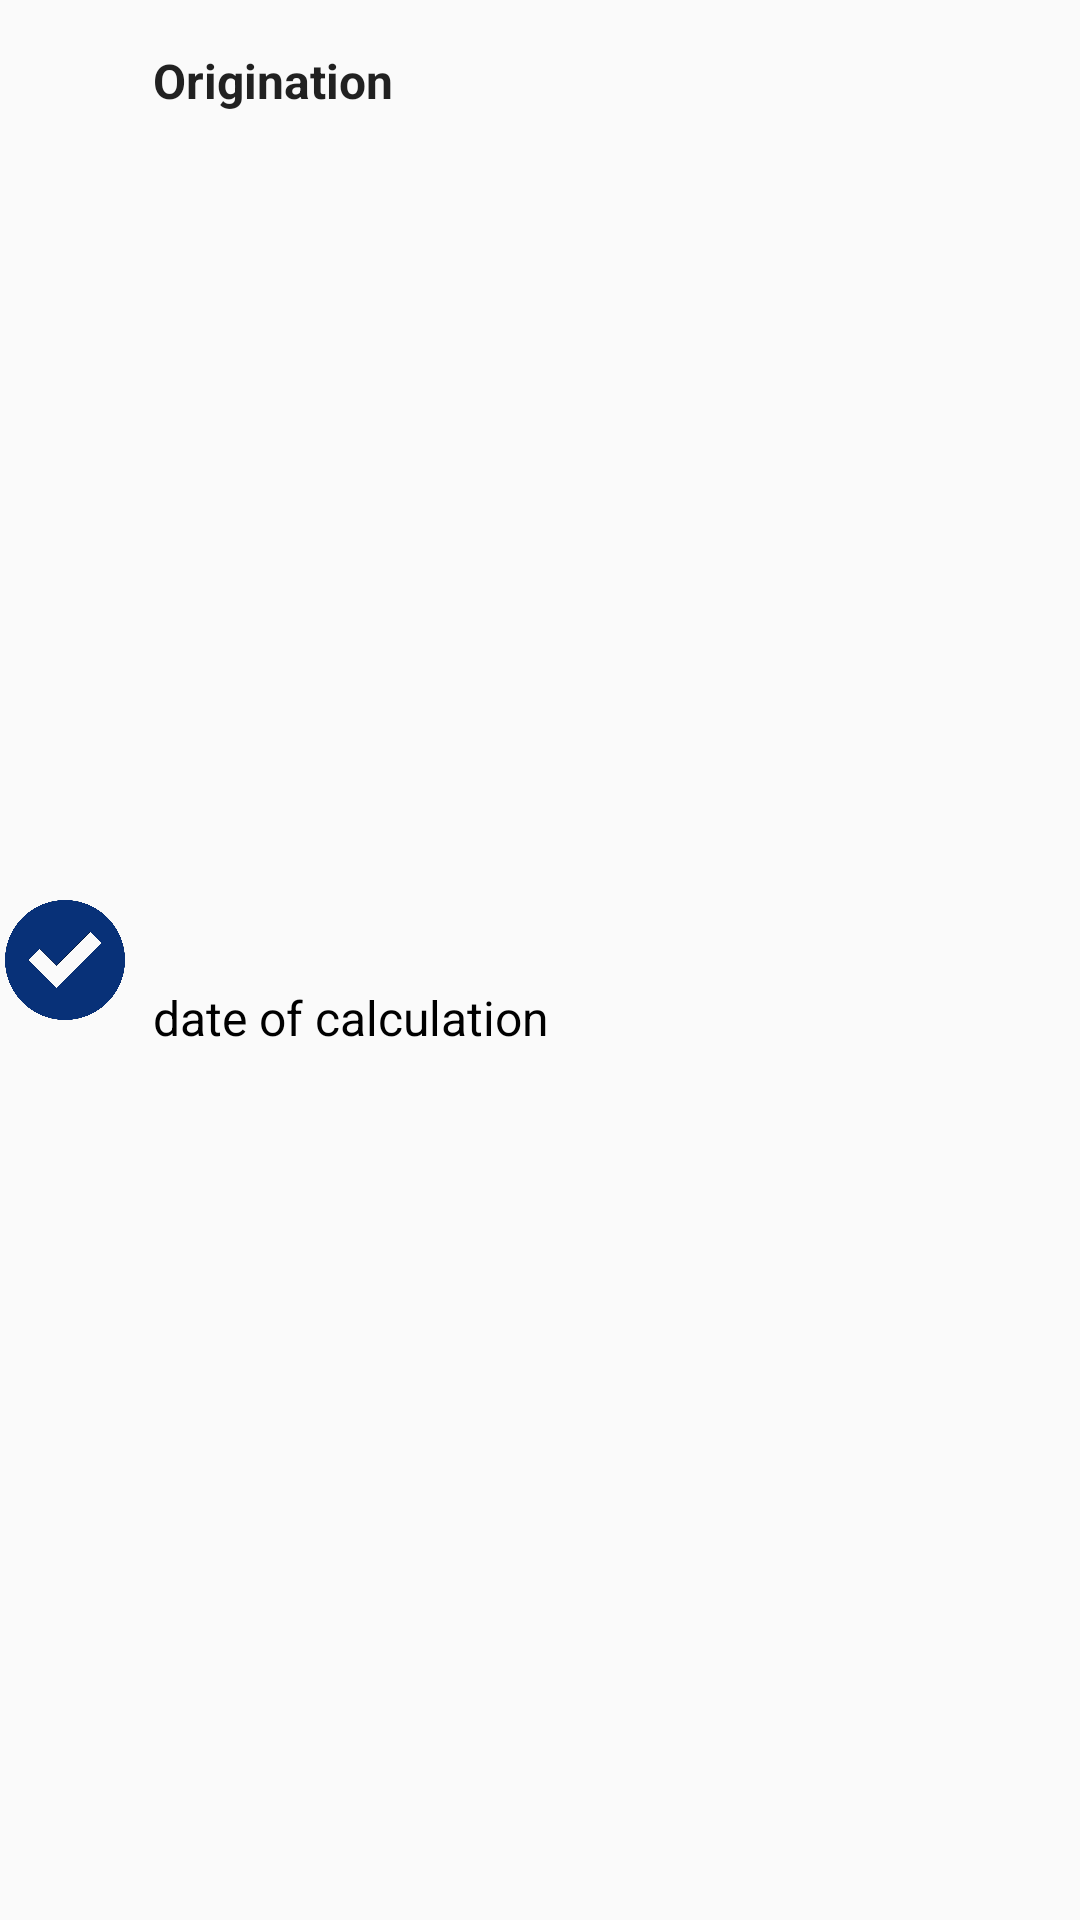

Icons on this 1080*1920 Android screen, each with its box as region(x1, y1, x2, y2):
checkmarkfab: region(5, 900, 125, 1020)
